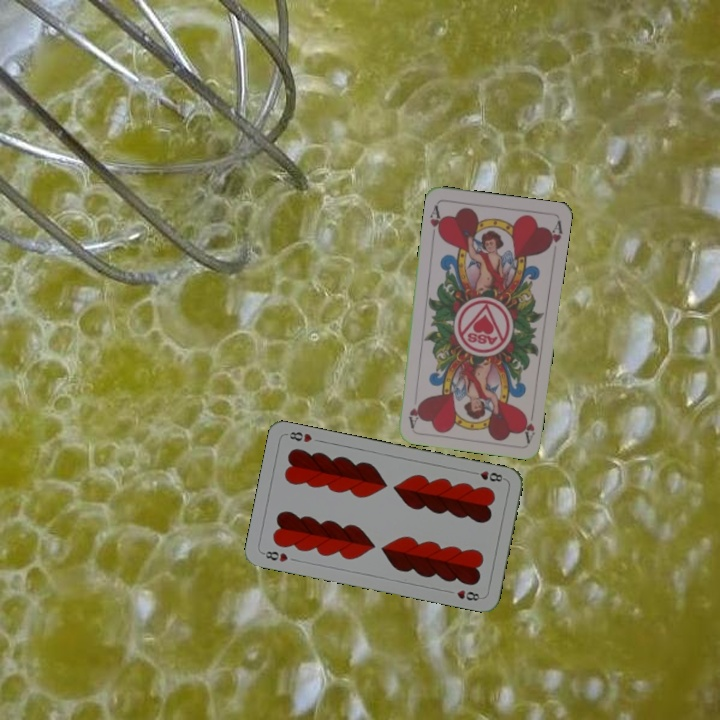H8: (467, 467, 508, 485), (259, 547, 291, 565)
HA: (518, 403, 537, 444), (426, 201, 445, 241)
